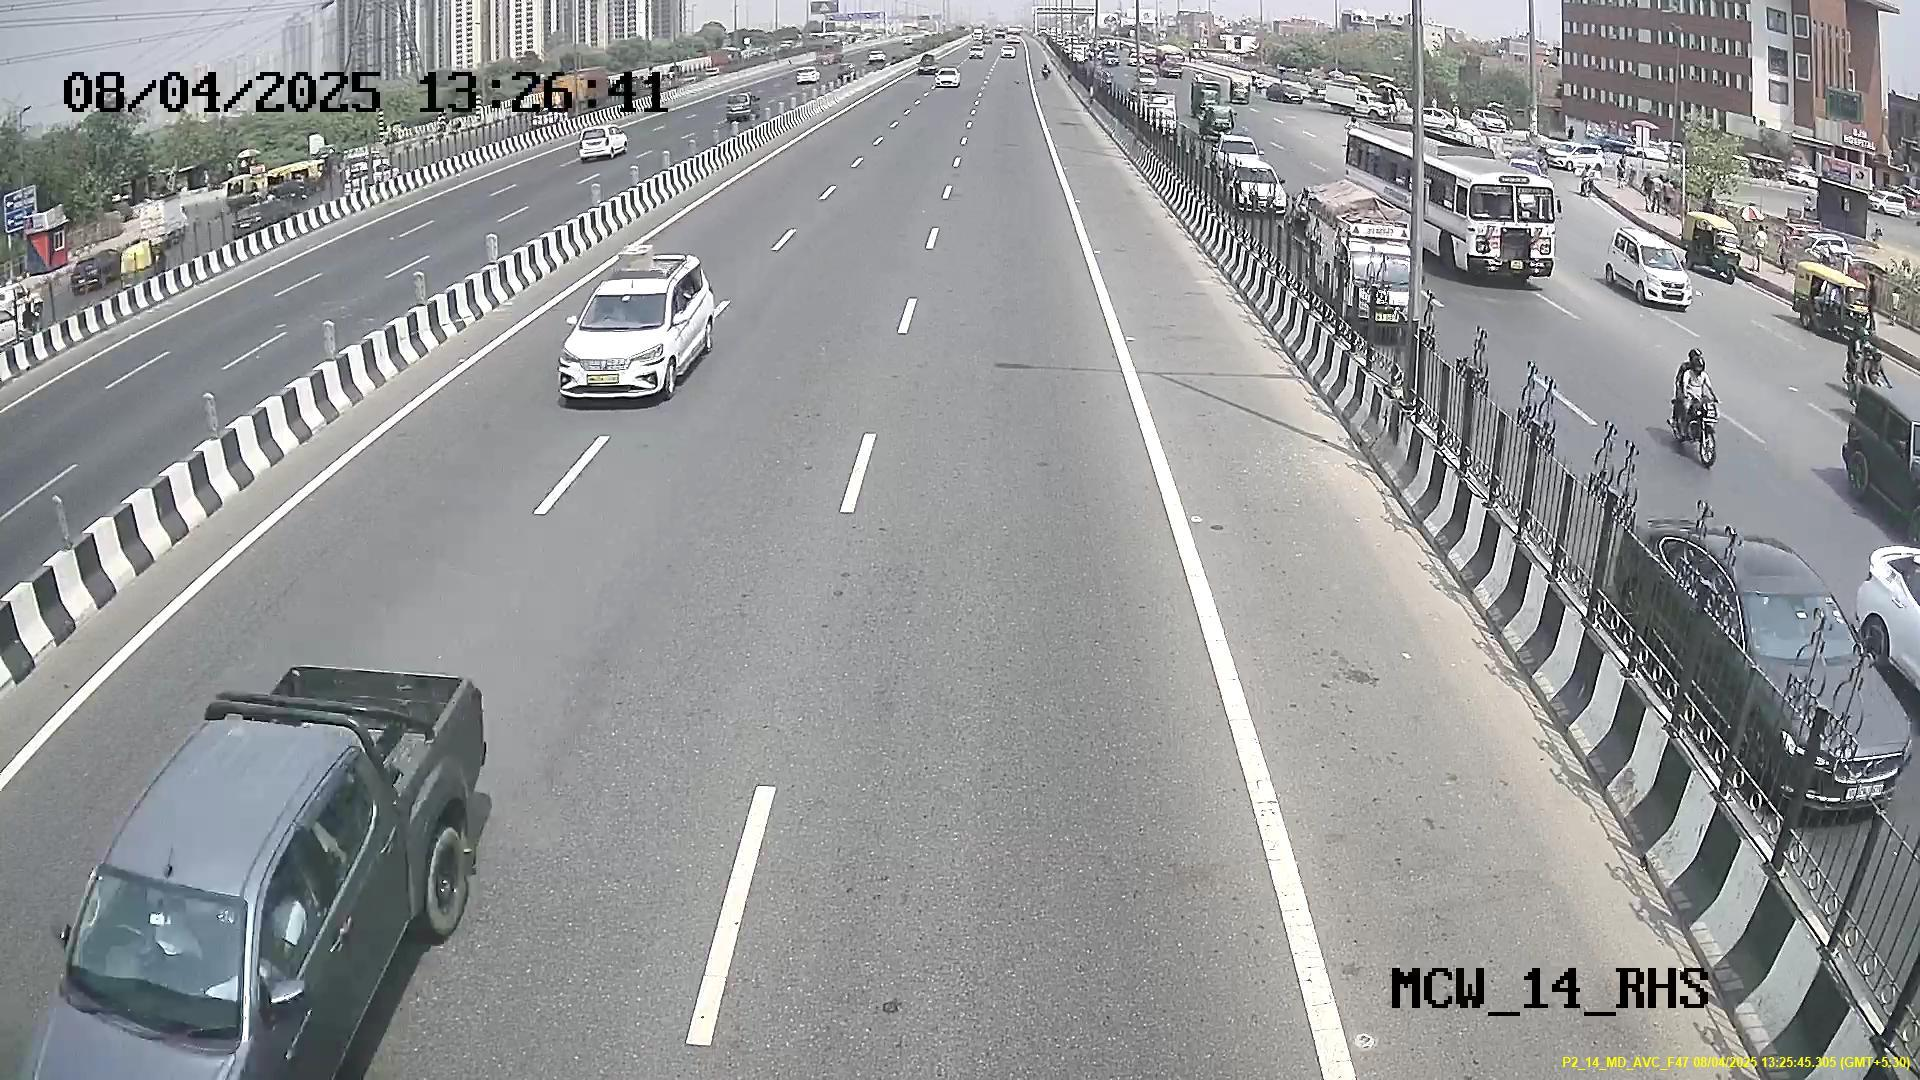car: (553, 272, 691, 407)
